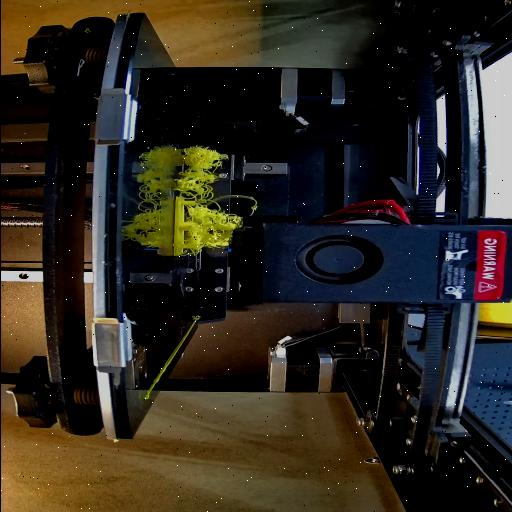spaghetti: (178, 142, 254, 254)
